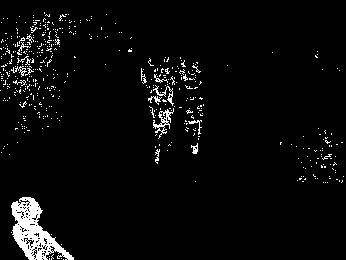person: (149, 85, 179, 165), (185, 83, 207, 164)
